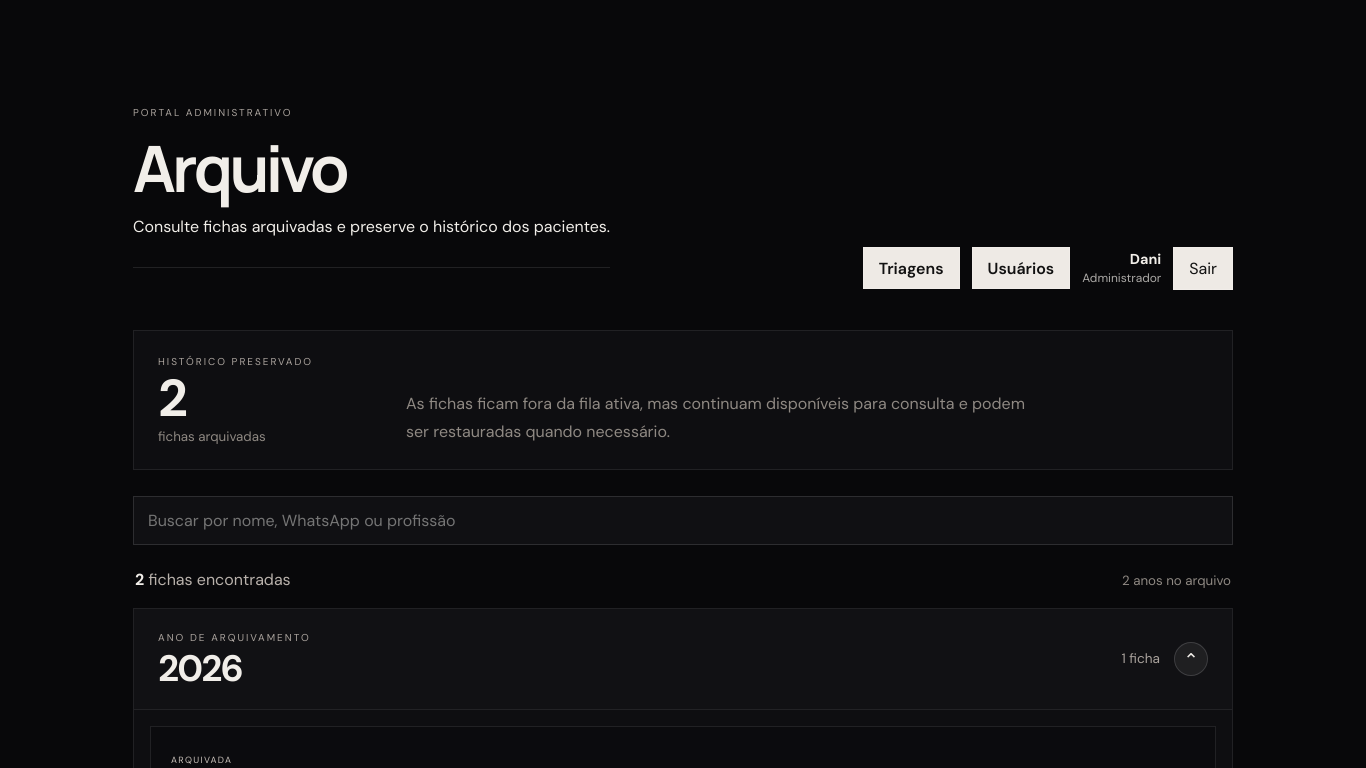
Test case: AdminArchivePage › filtra fichas arquivadas pela busca
Type "Ana Souza" into the field named "buscar ficha arquivada" at point(683, 520), box [133,496,1233,545]
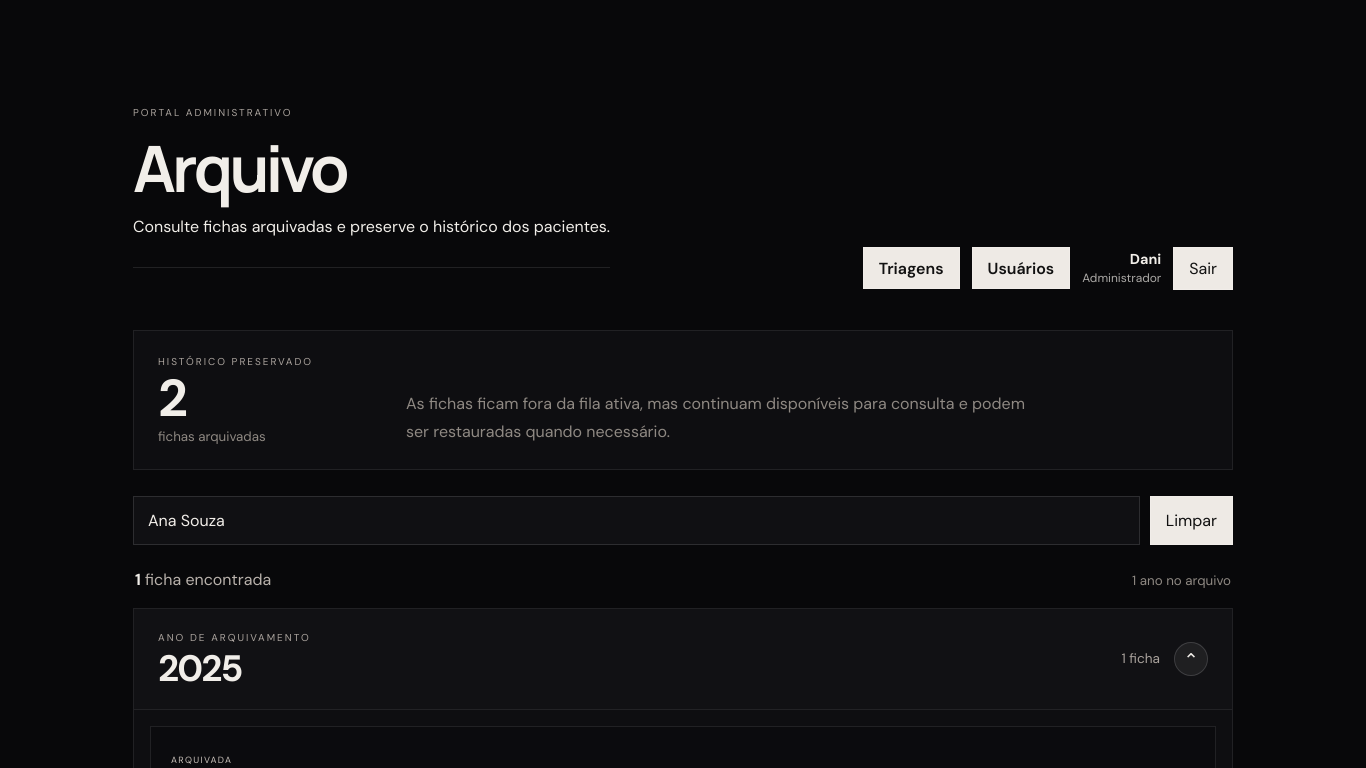
Expected: the element with class "archive-results-summary" shows "1 ficha encontrada", [133,569,1233,594]
